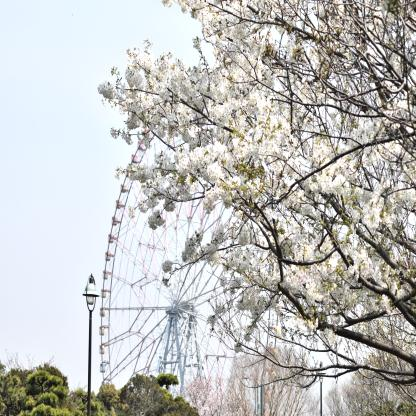OshimaSakura: (97, 0, 415, 352), (227, 332, 315, 416), (181, 368, 232, 416), (323, 372, 347, 416)
